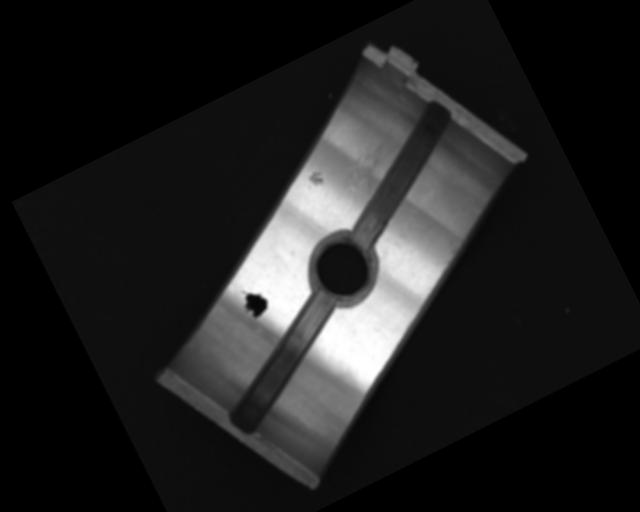blot: (235, 281, 274, 323)
bruise: (302, 168, 326, 191)
gap: (316, 97, 488, 252), (198, 288, 365, 436)
hole: (299, 226, 386, 312)
scratch: (335, 125, 419, 204)
